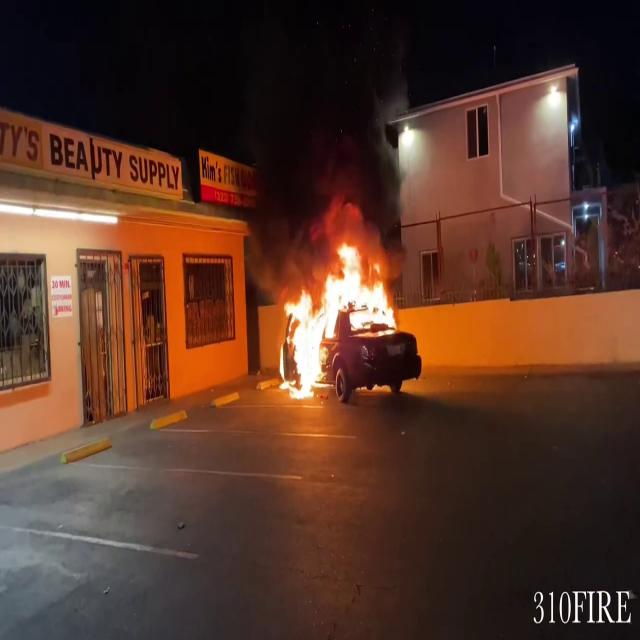Fire: (276, 233, 404, 396)
Smoke: (245, 3, 406, 253)
